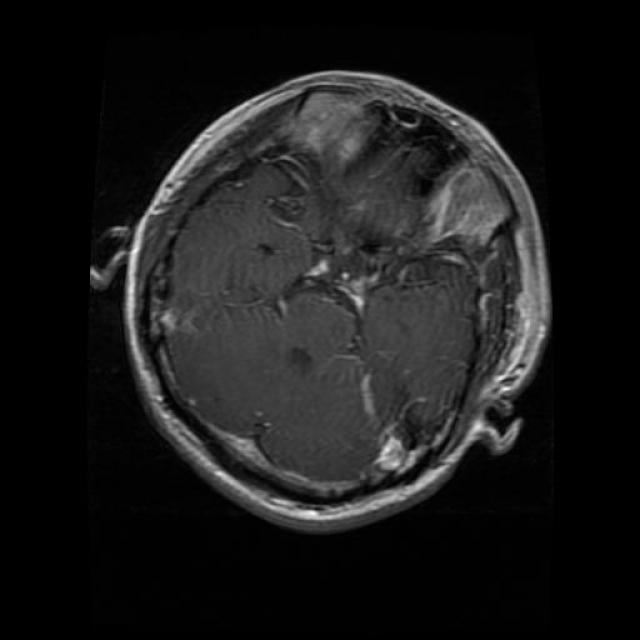glioma: (278, 210, 386, 326)
